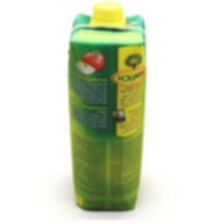carton: (65, 0, 146, 213)
